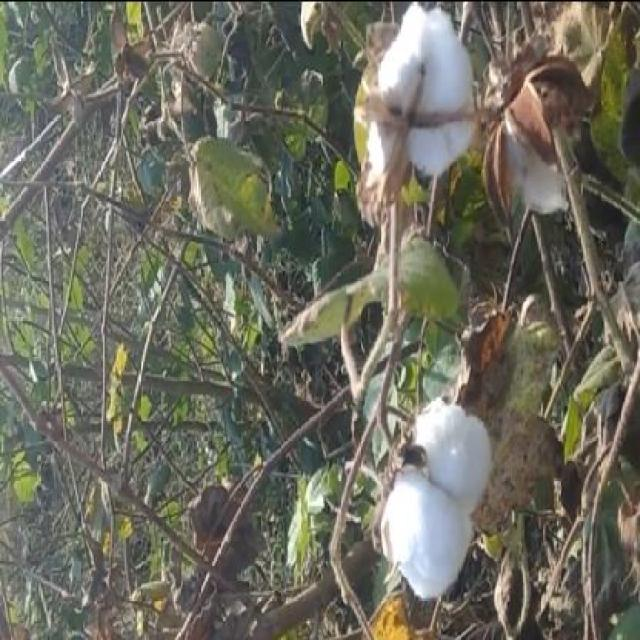cotton_ready: (354, 6, 492, 206), (378, 390, 492, 630)
